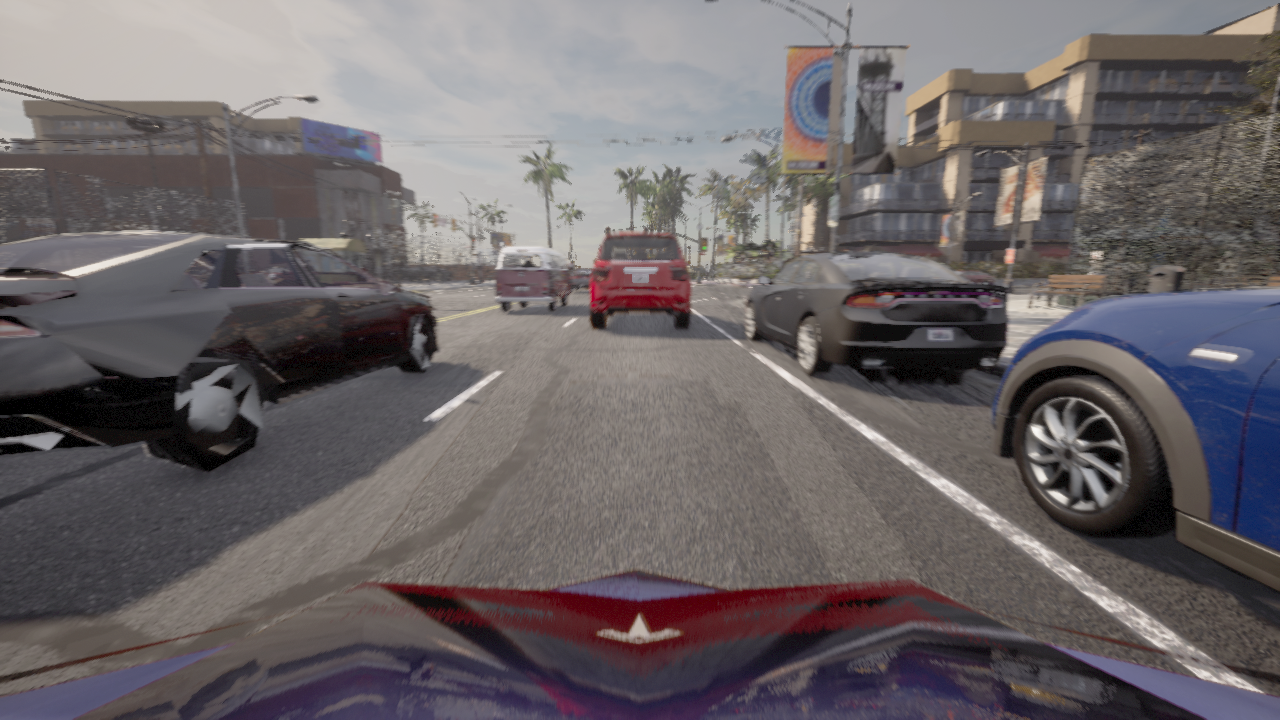cyclist: (0, 569, 1279, 719), (0, 230, 438, 472), (990, 286, 1279, 592), (746, 247, 1008, 375), (589, 232, 690, 328), (495, 245, 572, 311), (402, 266, 453, 281), (954, 270, 995, 283), (570, 269, 591, 292)
